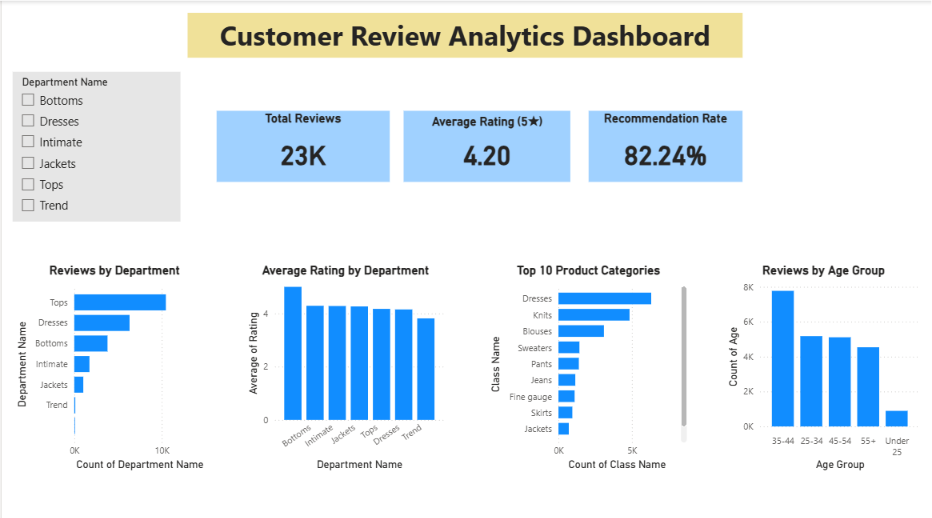

The dashboard page shown, as its layout file describes it:
{"tool":"powerbi","page":{"name":"Page 1","canvas":[1280,720],"ordinal":0},"visuals":[{"type":"card","title":"Total Reviews","fields":{"Values":["customer_reviews_cleaned.Total Reviews"]},"box":[295,150.9,237.4,97.4],"z":0},{"type":"card","title":"Average Rating (5★)","fields":{"Values":["customer_reviews_cleaned.Average Rating"]},"box":[551.6,150.9,229.2,97.4],"z":1000},{"type":"card","title":"Recommendation Rate","fields":{"Values":["customer_reviews_cleaned.Recommendation Rate"]},"box":[805.5,150.9,211.3,97.4],"z":2000},{"type":"clusteredBarChart","title":"Reviews by Department","fields":{"Category":["customer_reviews_cleaned.Department Name"],"Y":["CountNonNull(customer_reviews_cleaned.Department Name)"]},"box":[15.1,359.5,279.9,289.5],"z":3000},{"type":"clusteredColumnChart","title":"Average Rating by Department","fields":{"Category":["customer_reviews_cleaned.Department Name"],"Y":["Avg(customer_reviews_cleaned.Rating)"]},"box":[332.1,359.5,279.9,289.5],"z":4000},{"type":"clusteredBarChart","title":"Top 10 Product Categories","fields":{"Category":["customer_reviews_cleaned.Class Name"],"Y":["CountNonNull(customer_reviews_cleaned.Class Name)"]},"box":[665.5,359.5,279.9,289.5],"z":5000},{"type":"clusteredColumnChart","title":"Reviews by Age Group","fields":{"Category":["customer_reviews_cleaned.Age Group"],"Y":["CountNonNull(customer_reviews_cleaned.Age)"]},"box":[990.7,359.5,274.4,289.5],"z":6000},{"type":"slicer","fields":{"Values":["customer_reviews_cleaned.Department Name"]},"box":[15.1,97.4,230.5,205.8],"z":7000},{"type":"textbox","box":[255.2,16.5,761.6,61.7],"z":8000}]}

Visuals, with their boxes in screenshot pixels (x1, y1, x2, y2), scaled from the page's 1280x720 canvas onto the 932x518 screenshot:
"Total Reviews" card: bbox=(215, 109, 388, 179)
"Average Rating (5★)" card: bbox=(402, 109, 569, 179)
"Recommendation Rate" card: bbox=(587, 109, 740, 179)
"Reviews by Department" clusteredBarChart: bbox=(11, 259, 215, 467)
"Average Rating by Department" clusteredColumnChart: bbox=(242, 259, 446, 467)
"Top 10 Product Categories" clusteredBarChart: bbox=(485, 259, 688, 467)
"Reviews by Age Group" clusteredColumnChart: bbox=(721, 259, 921, 467)
slicer - customer_reviews_cleaned.Department Name: bbox=(11, 70, 179, 218)
textbox: bbox=(186, 12, 740, 56)
